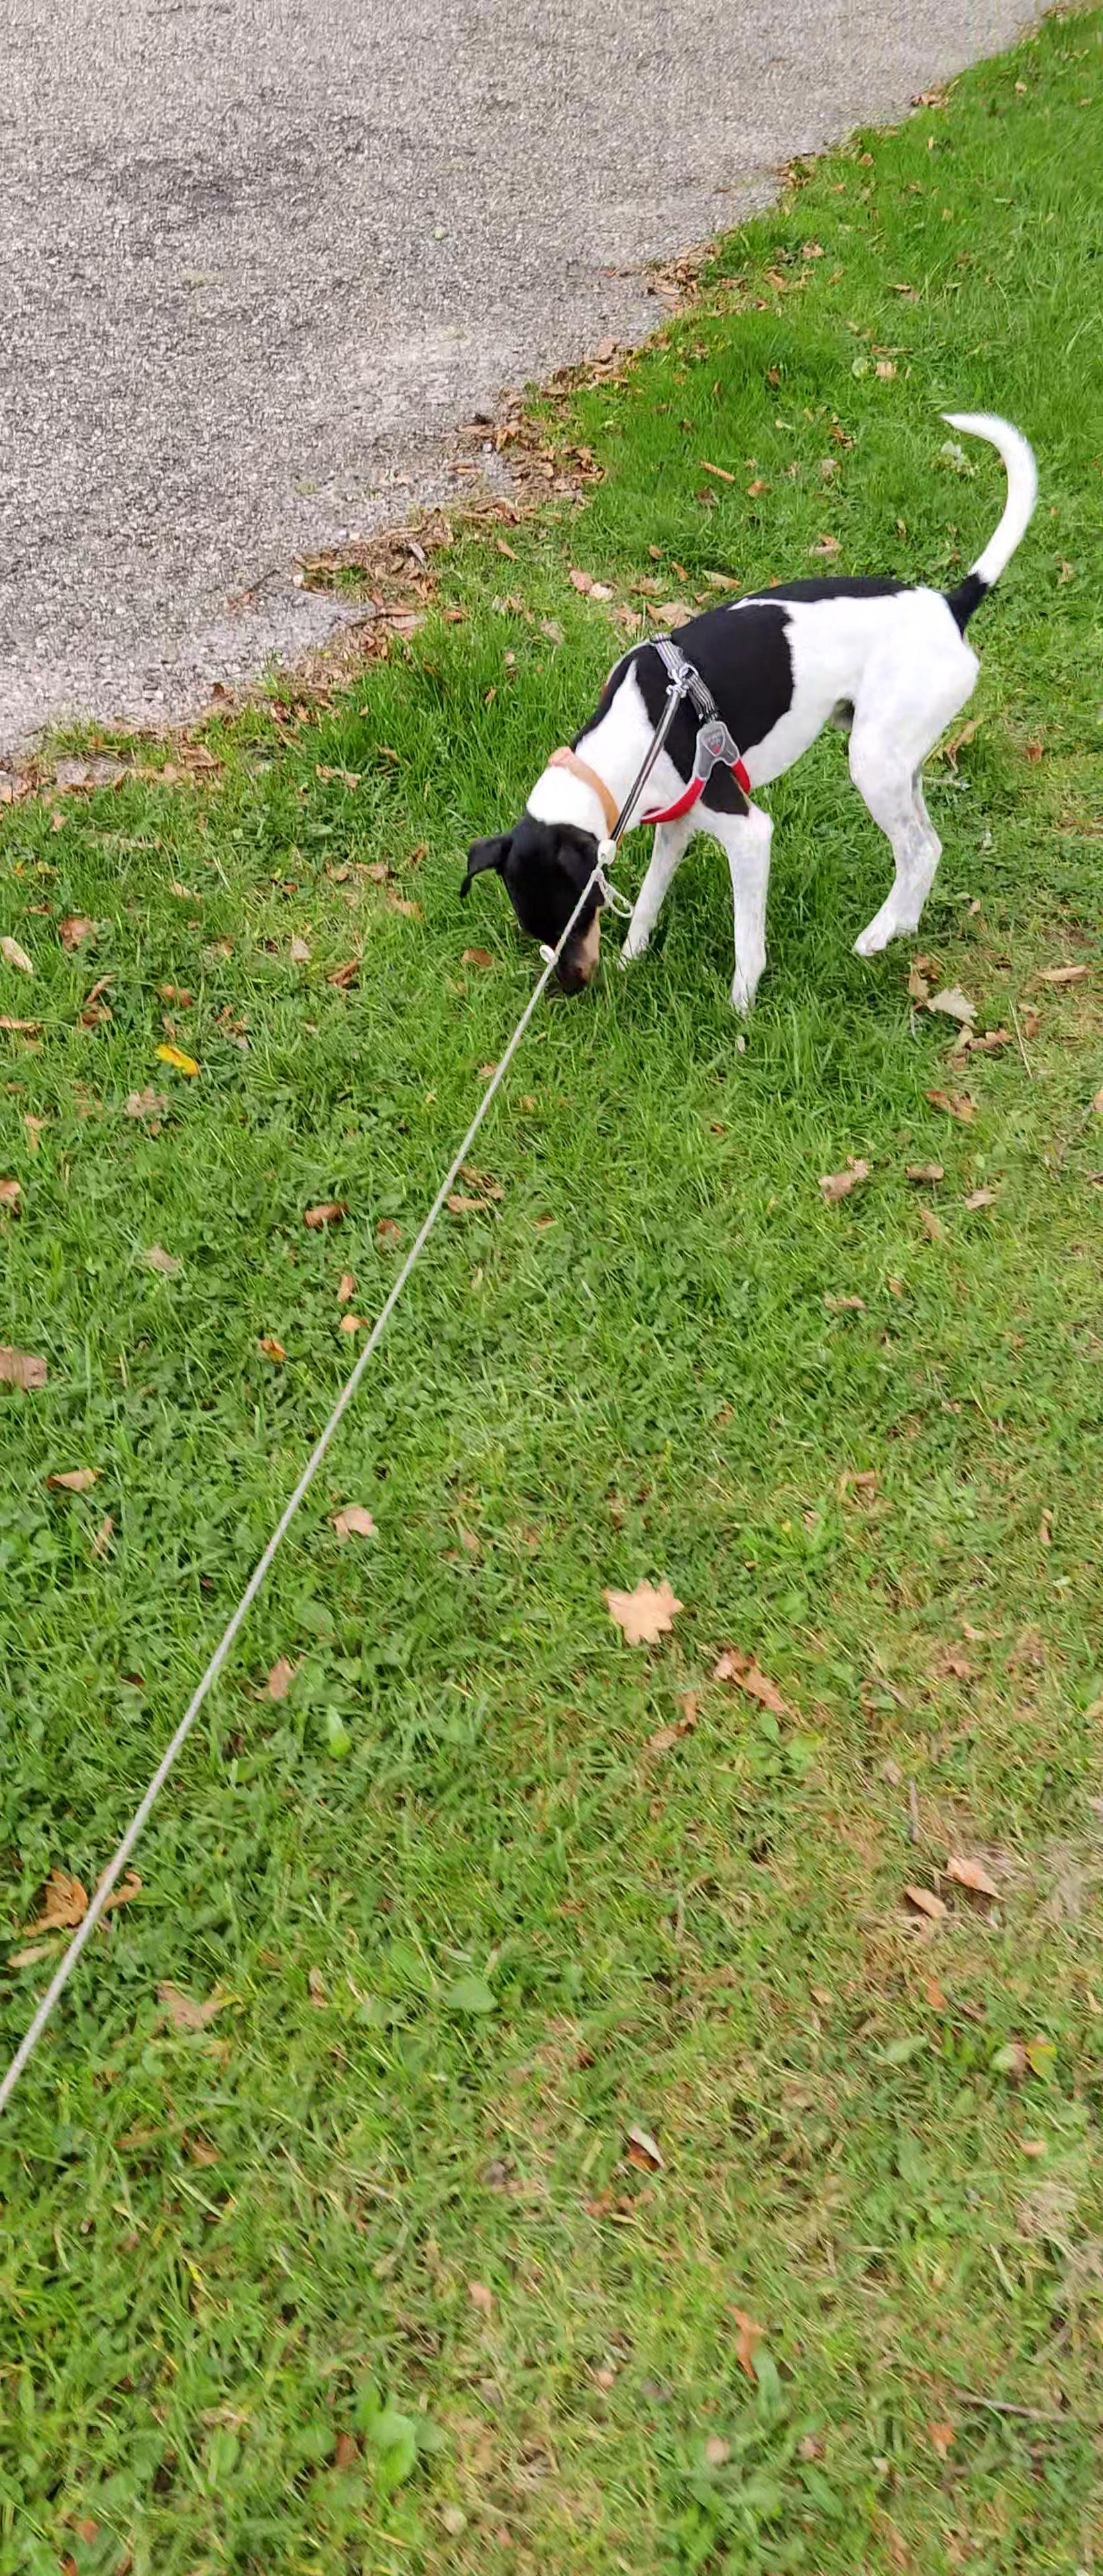Dog: (441, 404, 1054, 1017)
